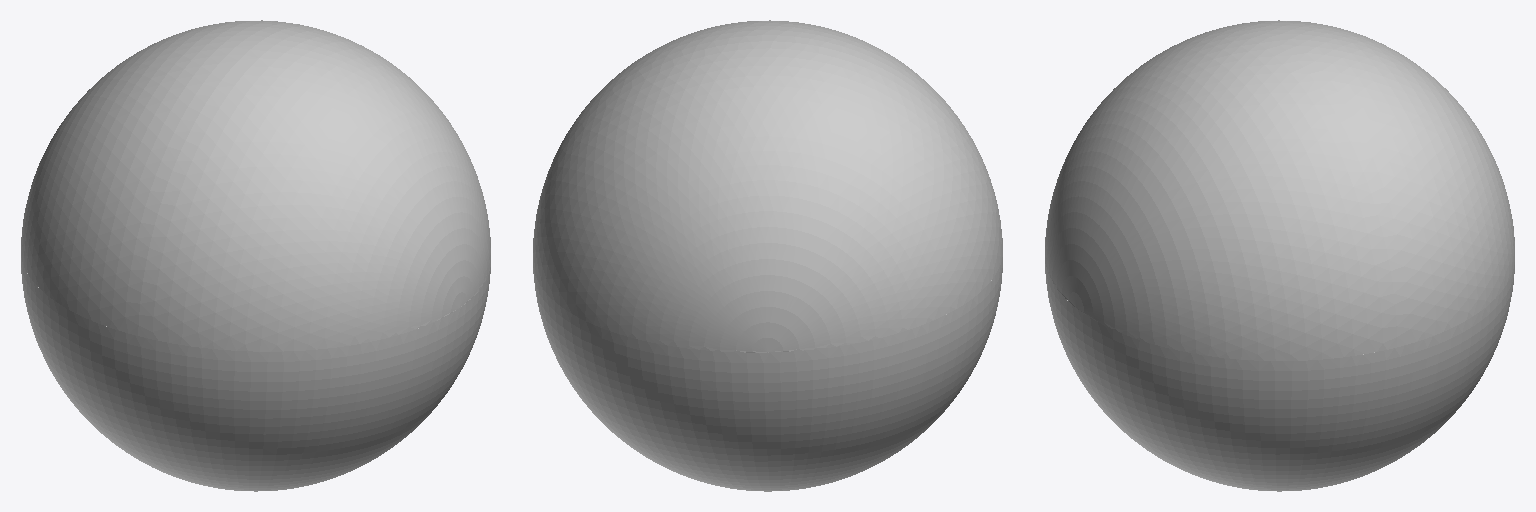
The robot description file, URDF, robot "OuterShell-meshbased":
<?xml version="1.0"?>
<!-- created with Phobos 1.0.1 "Capricious Choutengan" -->
  <robot name="OuterShell-meshbased">

    <link name="new_link">
      <inertial>
        <origin xyz="0 0 0" rpy="0 0 0"/>
        <mass value="0.5"/>
        <inertia ixx="2e-05" ixy="0" ixz="0" iyy="2e-05" iyz="0" izz="2e-05"/>
      </inertial>
      <visual name="node2">
        <origin xyz="0 0 0" rpy="1.5708 0 0"/>
        <geometry>
          <mesh filename="../meshes/dae/Part__Feature074.dae" scale="10.0 10.0 10.0"/>
        </geometry>
        <material name="Part__Feature074"/>
      </visual>
      <visual name="node3">
        <origin xyz="0 0 0" rpy="1.5708 0 0"/>
        <geometry>
          <mesh filename="../meshes/dae/Part__Feature075.dae" scale="10.0 10.0 10.0"/>
        </geometry>
        <material name="Part__Feature075"/>
      </visual>
      <collision name="node2.000">
        <origin xyz="0 0 0" rpy="1.5708 0 0"/>
        <geometry>
          <mesh filename="../meshes/dae/Part__Feature074.001.dae" scale="10.0 10.0 10.0"/>
        </geometry>
      </collision>
      <collision name="node3.000">
        <origin xyz="0 0 0" rpy="1.5708 0 0"/>
        <geometry>
          <mesh filename="../meshes/dae/Part__Feature075.001.dae" scale="10.0 10.0 10.0"/>
        </geometry>
      </collision>
    </link>

    <material name="Part__Feature074">
      <color rgba="0.8 0.8 0.8 1.0"/>
    </material>

    <material name="Part__Feature075">
      <color rgba="0.8 0.8 0.8 1.0"/>
    </material>

  </robot>

--- What the picture shows (computed from the rendered views, not written in the file) ---
Views: 3 orthographic renders of the robot side by side, from view 1: azimuth 30°, elevation 25°; view 2: azimuth 150°, elevation 25°; view 3: azimuth 270°, elevation 25°.
Robot: OuterShell-meshbased — 1 links, 0 joints (none); root link new_link; default pose: every joint at zero.
Visible links, largest first — view 1: new_link; view 2: new_link; view 3: new_link.
Link boxes in pixels (x1,y1,x2,y2): new_link: (21, 20, 490, 491); new_link: (533, 20, 1002, 491); new_link: (1045, 20, 1514, 491).
Size in the robot's own frame: 5 by 5 by 5.01 metres.
2 mesh visuals loaded from 2 distinct referenced files (2 Collada DAE).